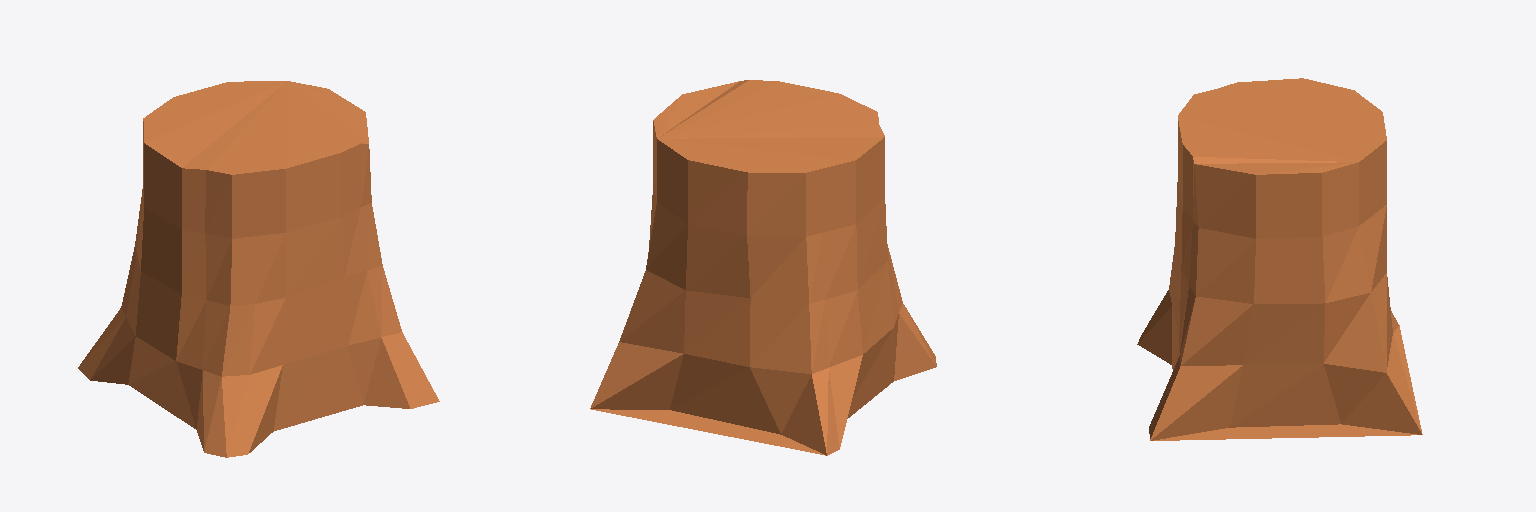
The model's file is stump.obj.
3 views of the same model, side by side, from view 1: azimuth 30°, elevation 25°; view 2: azimuth 150°, elevation 25°; view 3: azimuth 270°, elevation 25° (orthographic).
Visible parts, largest first — view 1: stump; view 2: stump; view 3: stump.
Part boxes in pixels (left/top/right/bottom): stump: left=78, top=81, right=439, bottom=457; stump: left=590, top=80, right=936, bottom=455; stump: left=1137, top=78, right=1422, bottom=440.
Bounding box in the file's own units: 154 × 161 × 160.